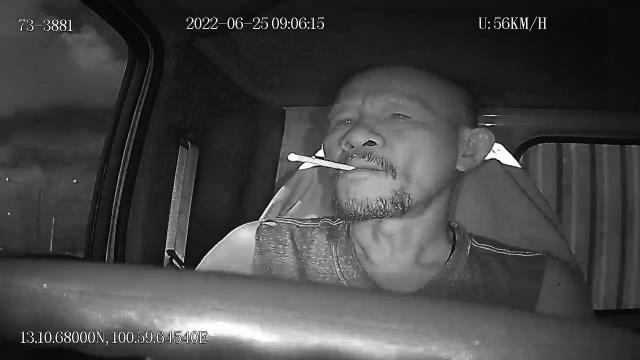SafeDriving: (381, 100, 420, 130)
Smoking: (288, 151, 354, 171)
